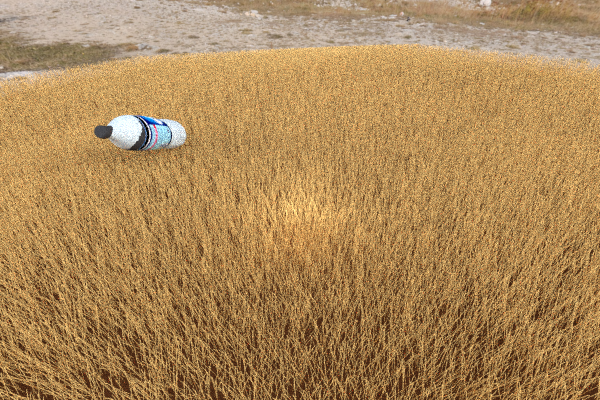bottle: (94, 115, 186, 150)
can: (0, 331, 102, 400), (282, 65, 309, 88)
